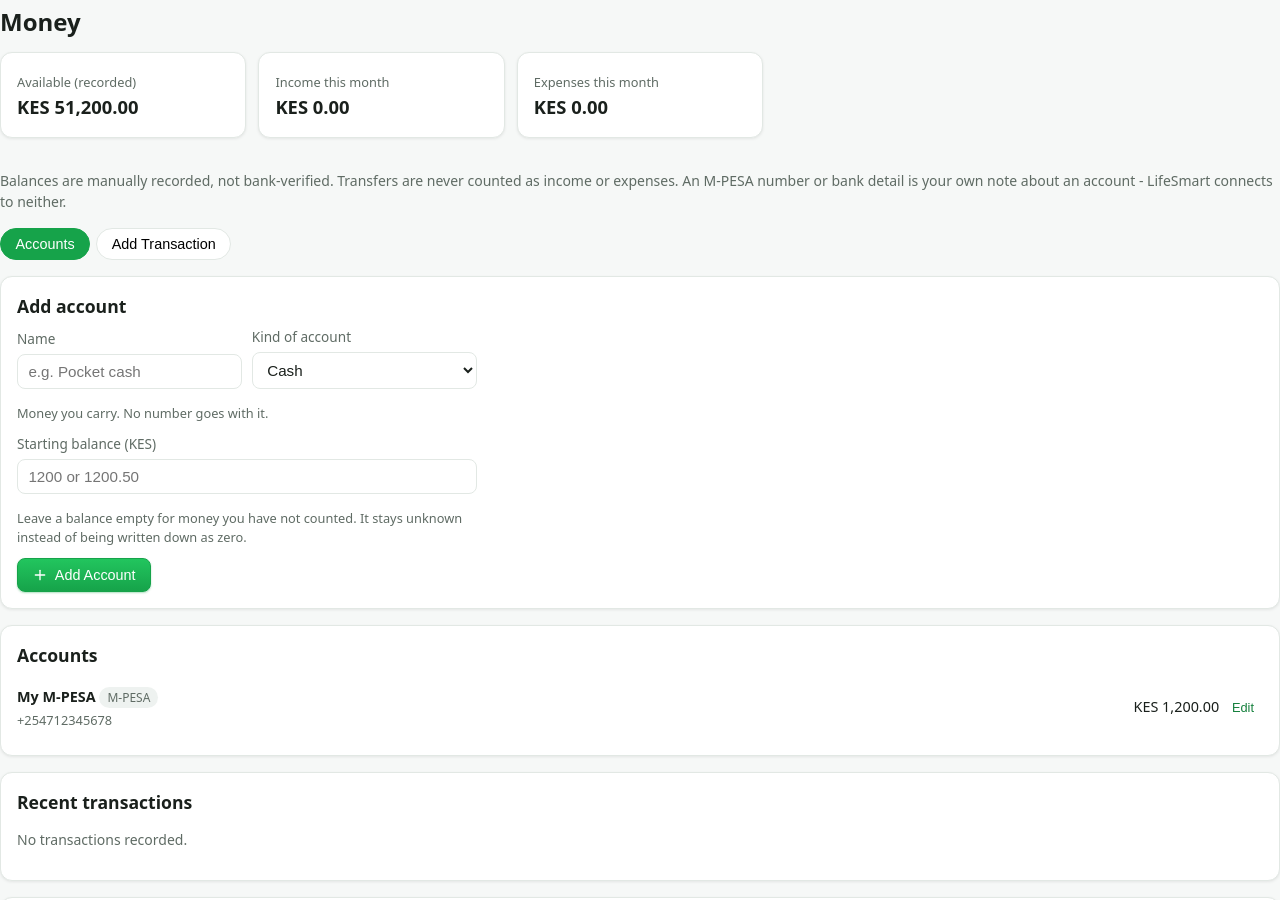
Scenario: MoneyPage accounts › refuses an amount that is not money
Expected: the text "+254712345678" is shown, [17,711,112,729]
Click the tab "Add Transaction": coordinates (164, 244) [96,228,231,260]
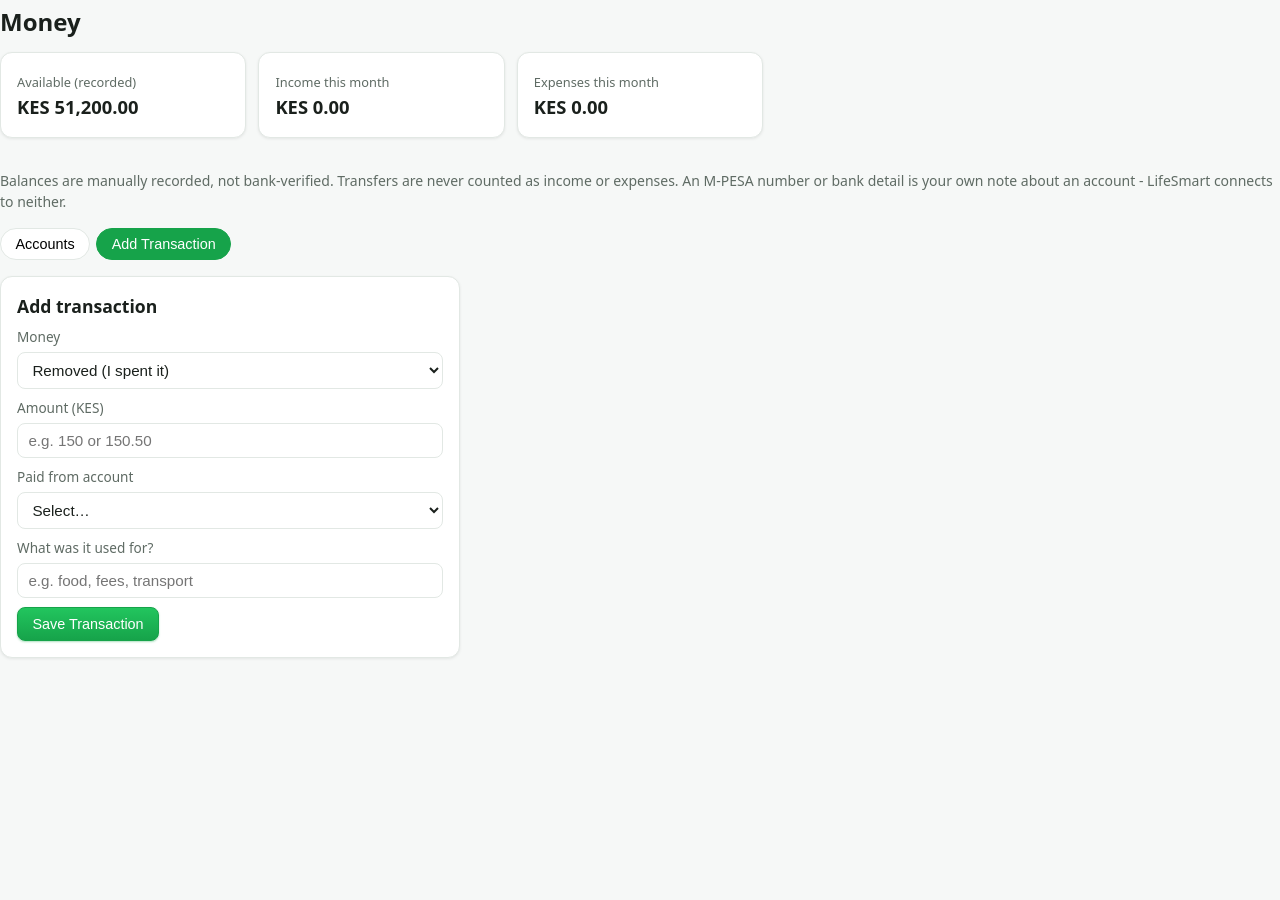
Select "My M-PESA · M-PESA (+254712345678)" in the dropdown labelled "Paid from account": coordinates (230, 510) [17,492,443,529]
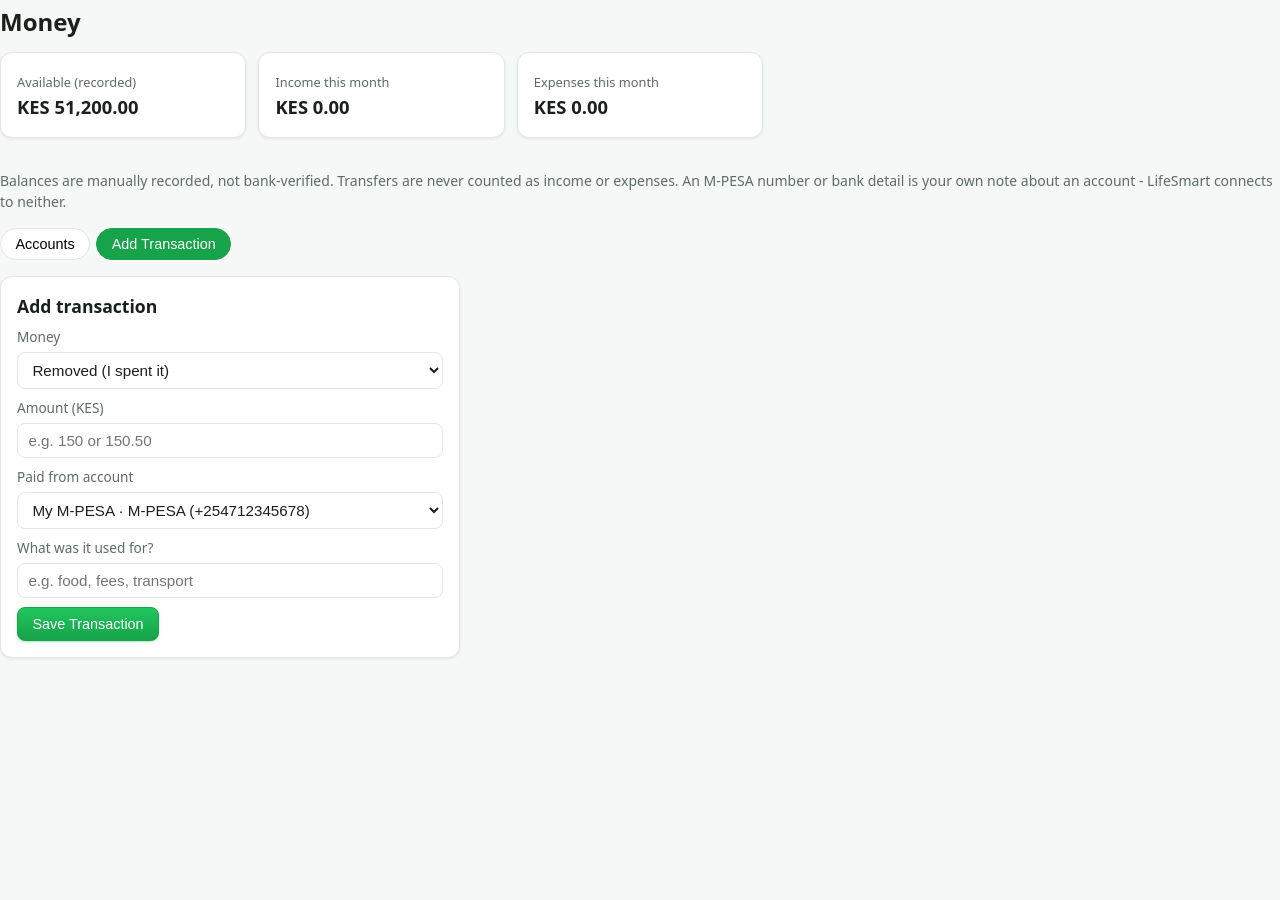
In the field labelled "Amount (KES)": coordinates (230, 440) [17,423,443,458], type "0"
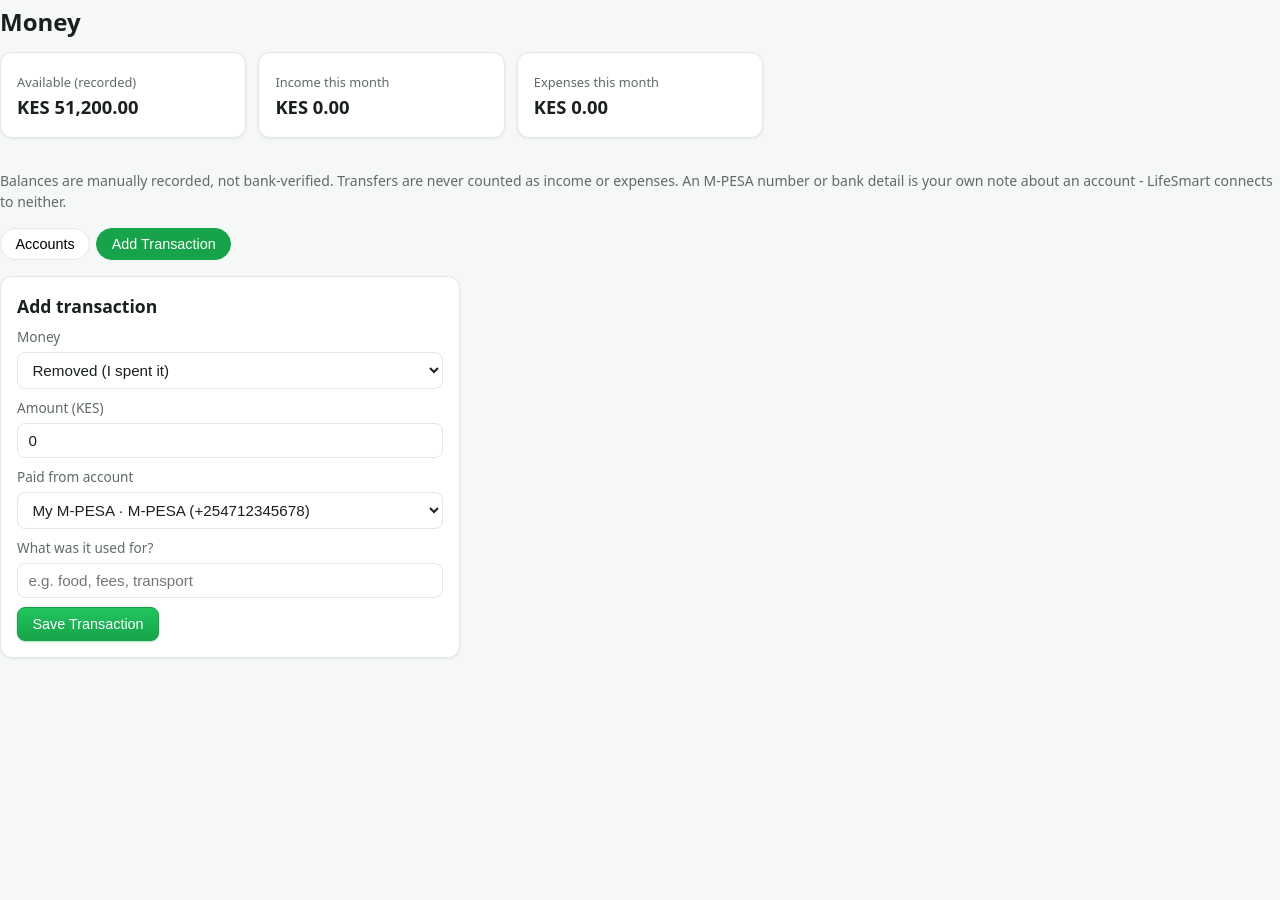
Click the button "Save Transaction": coordinates (88, 624) [17,607,159,641]
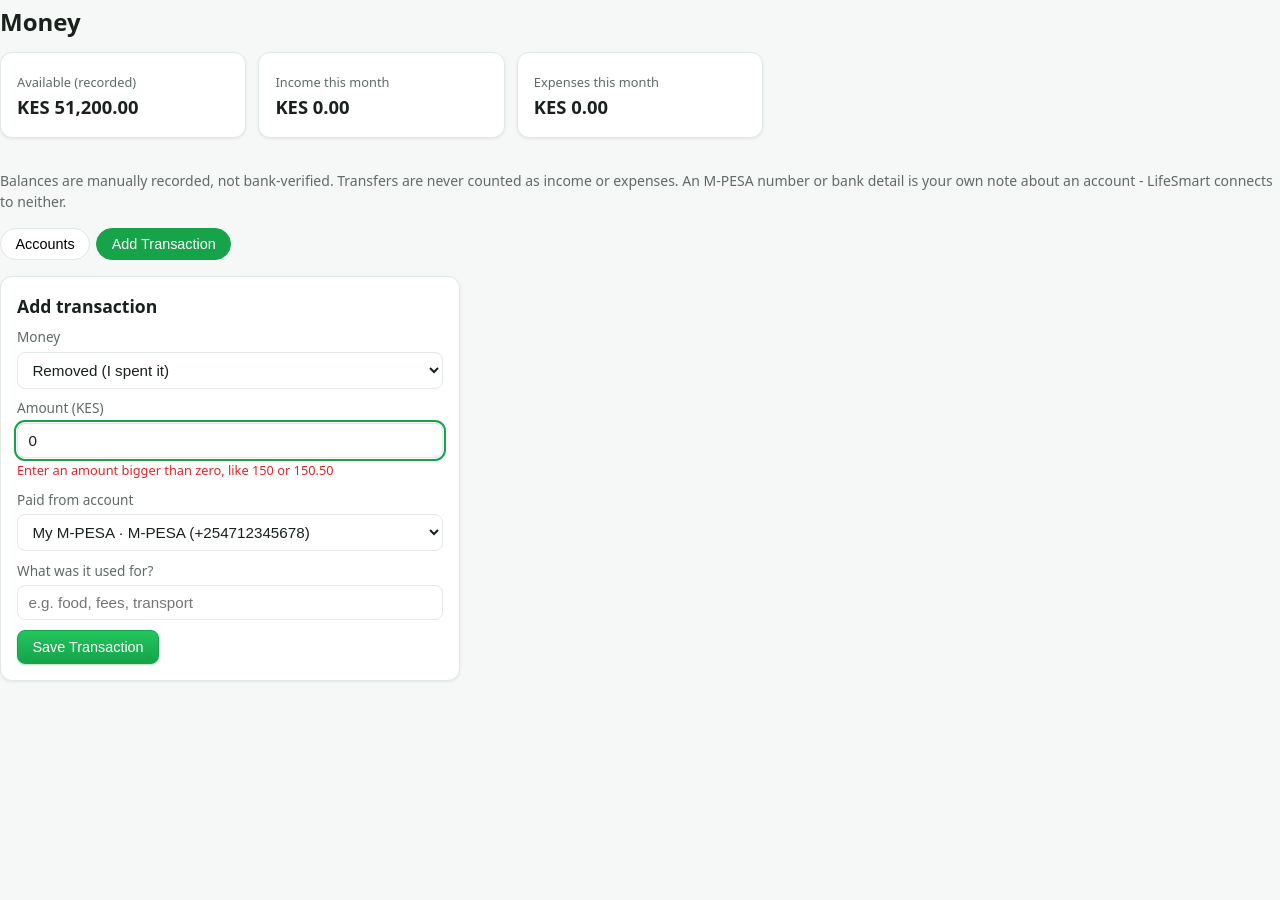
Now the text "Enter an amount bigger than zero, like 150 or 150.50" is shown, box [17,461,334,479]
